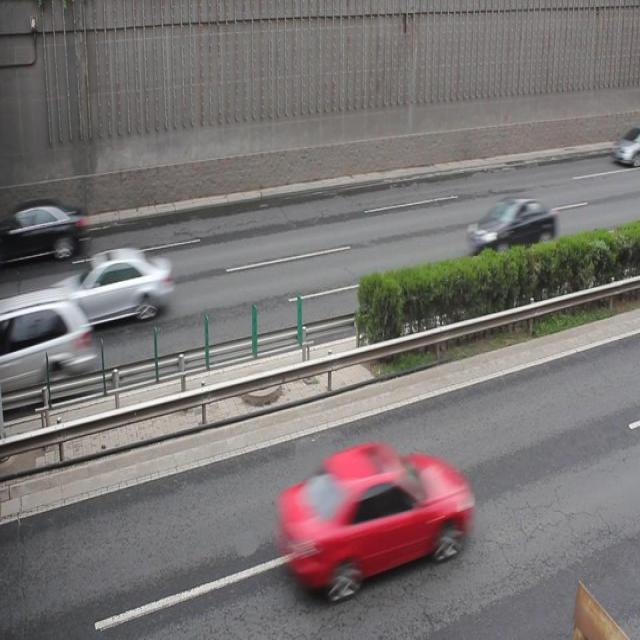car: (277, 441, 470, 598), (1, 286, 92, 405), (55, 246, 173, 326), (467, 195, 557, 257), (1, 198, 85, 262), (611, 128, 640, 168)
